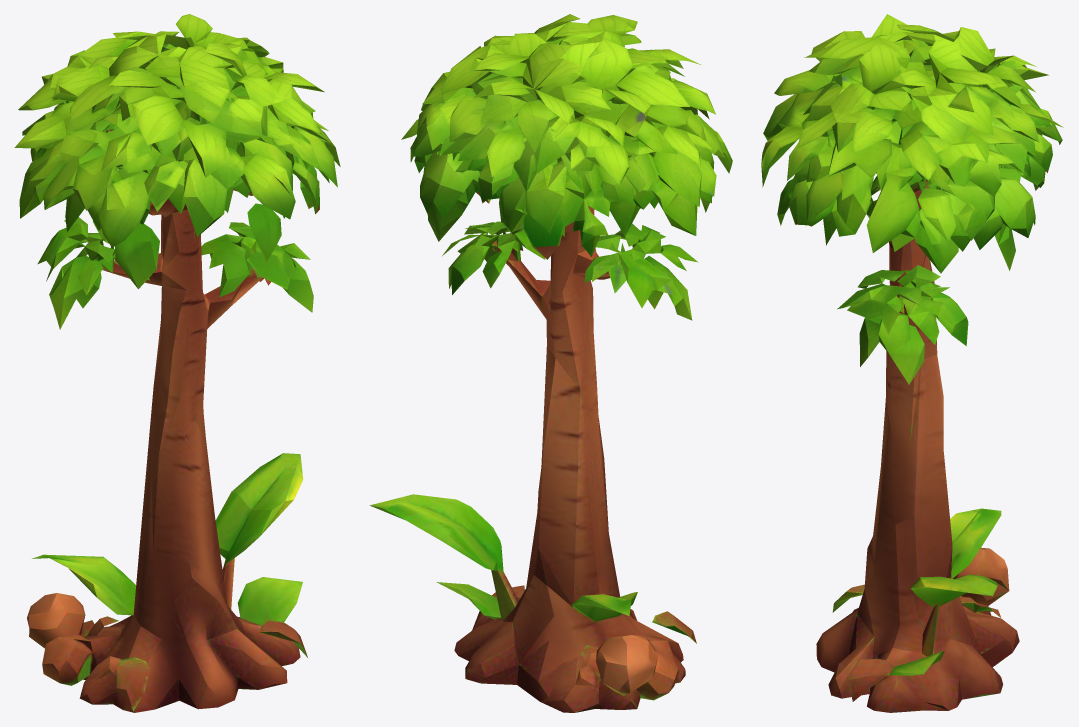
File: canopy-tree-tall.glb
3 renders of one model, left to right at view 1: azimuth 30°, elevation 25°; view 2: azimuth 150°, elevation 25°; view 3: azimuth 270°, elevation 25°, orthographic.
Visible parts, largest first — view 1: mesh_node; view 2: mesh_node; view 3: mesh_node.
Boxes of the visible parts, bbox=[...] form: mesh_node: bbox=[14, 14, 340, 712]; mesh_node: bbox=[369, 14, 732, 712]; mesh_node: bbox=[761, 14, 1063, 712].
Bounding box in the file's own units: 0.9748 × 1.9 × 0.8345.
Materials: 1 (1 with a texture image).
